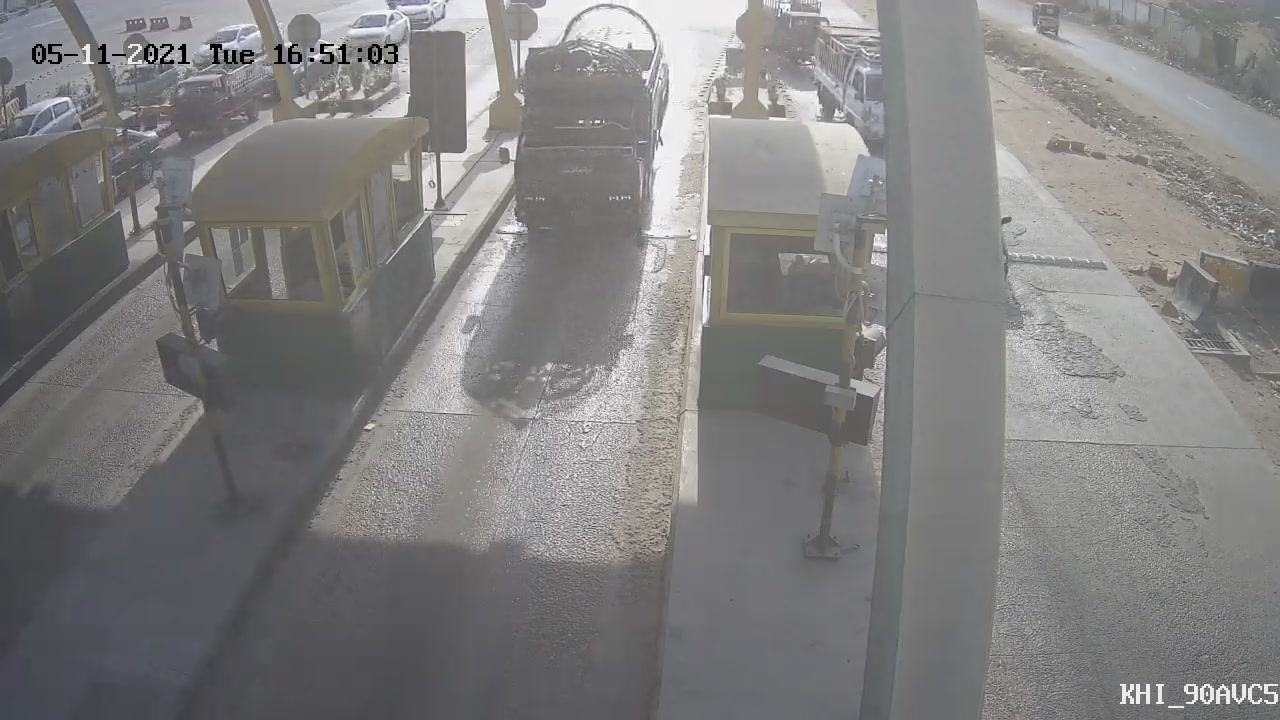F5: (486, 1, 689, 264)
